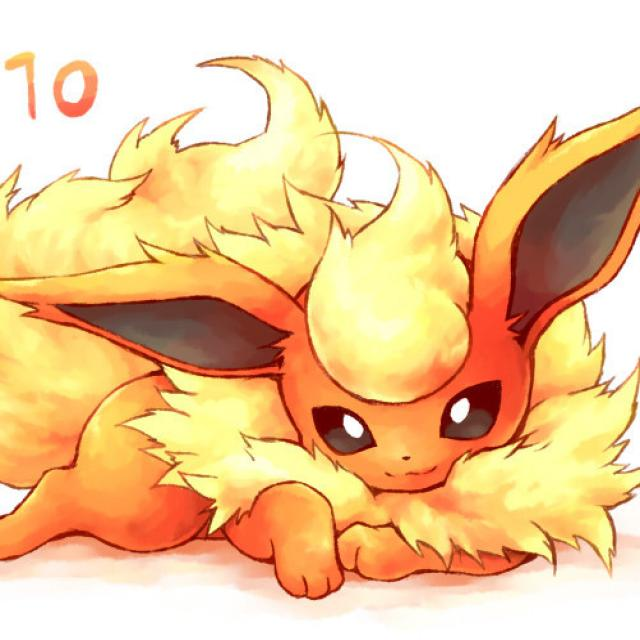Flareon: (2, 175, 639, 553)
